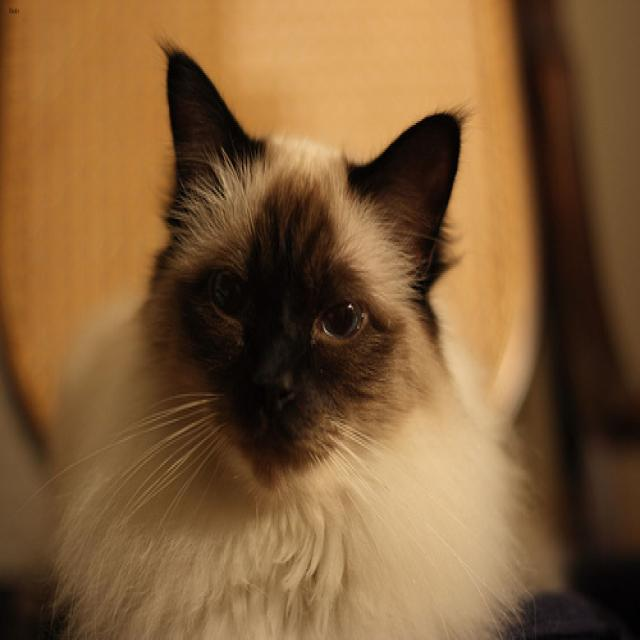Birman: (164, 50, 458, 475)
